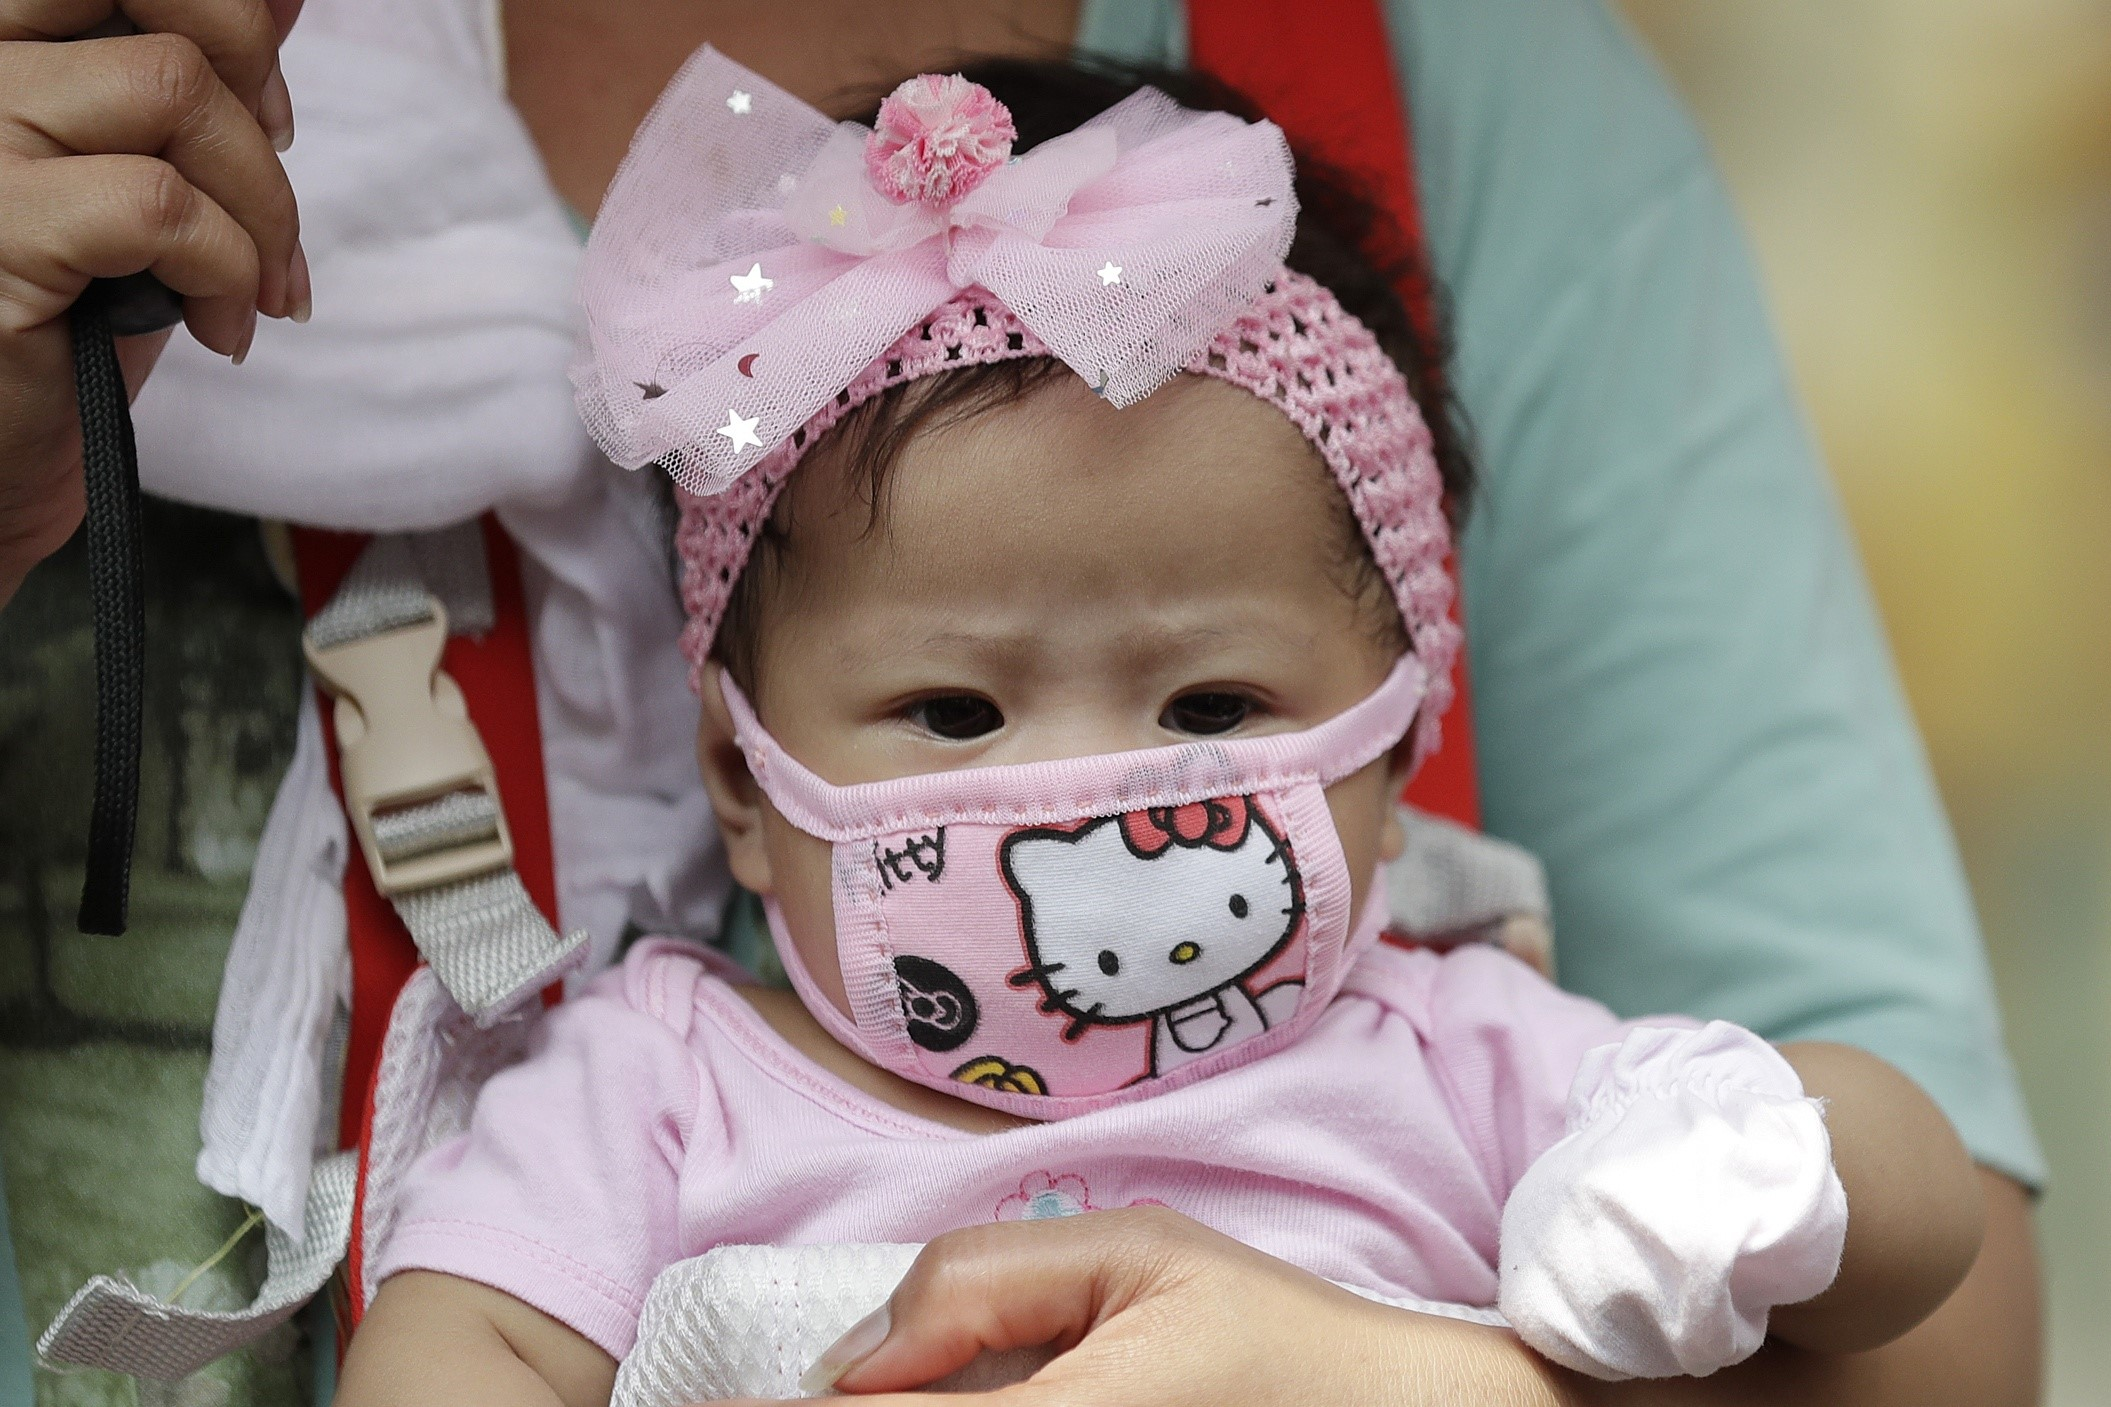face_with_mask: (657, 89, 1463, 1135)
